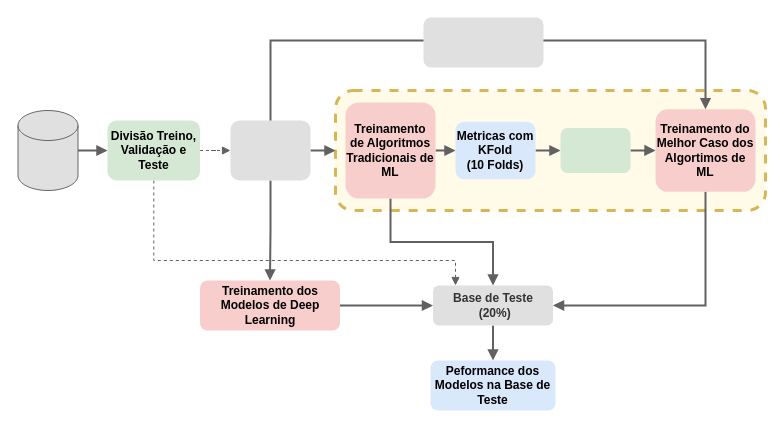
The diagram is 784 pixels wide and 427 high, and some of its shapes have lost their labels. The centre of each missing label's shape, as x and y in pixels:
"BASE DE DADOS" goes at pixel 47 150.
"BASE DE TREINO COMPLETA (SEM HOLD-OUT)" goes at pixel 483 42.
"Base de Treino e Validação (80%)" goes at pixel 270 150.
"Tunning Melhor Caso" goes at pixel 595 150.
